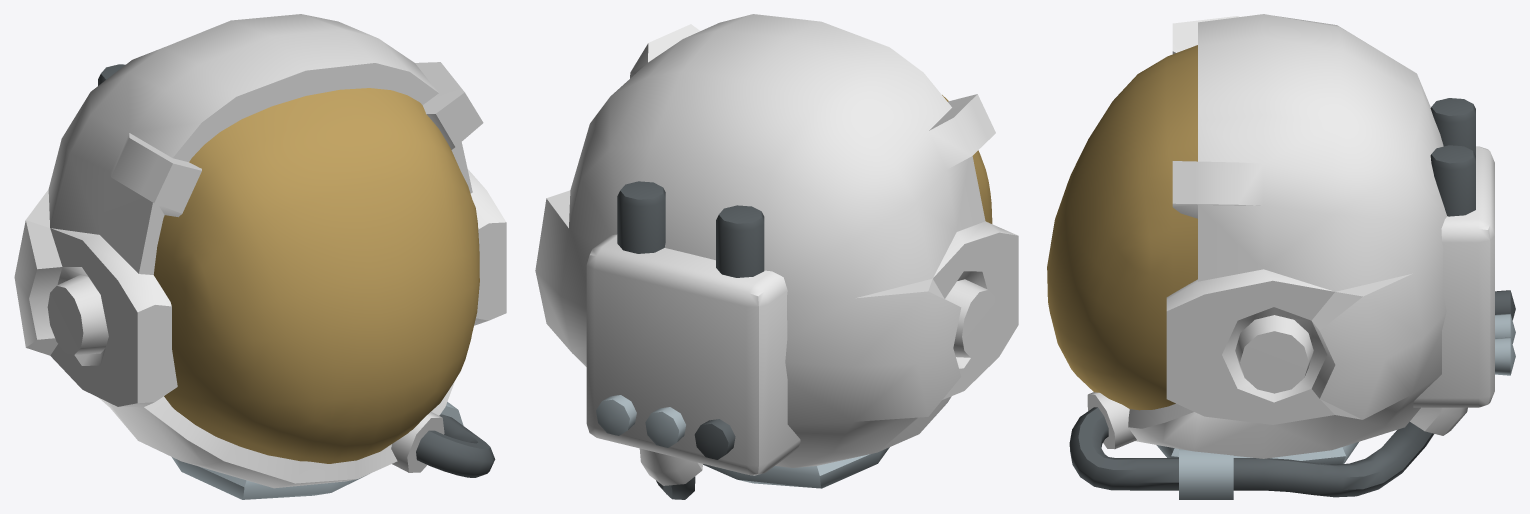
Rendered from helmet_A_visor_opaque.gltf.glb.
3 views of the same model, side by side, from view 1: azimuth 30°, elevation 25°; view 2: azimuth 150°, elevation 25°; view 3: azimuth 270°, elevation 25° (orthographic). The views are drawn at different scales.
Parts seen in each view (by area): view 1: helmet_A_visor_opaque; view 2: helmet_A_visor_opaque; view 3: helmet_A_visor_opaque.
Boxes of the visible parts, bbox=[...] form: helmet_A_visor_opaque: bbox=[14, 14, 506, 499]; helmet_A_visor_opaque: bbox=[535, 14, 1018, 499]; helmet_A_visor_opaque: bbox=[1047, 14, 1515, 499].
Size of the model in its own units: 1.36 by 1.39 by 1.39.
